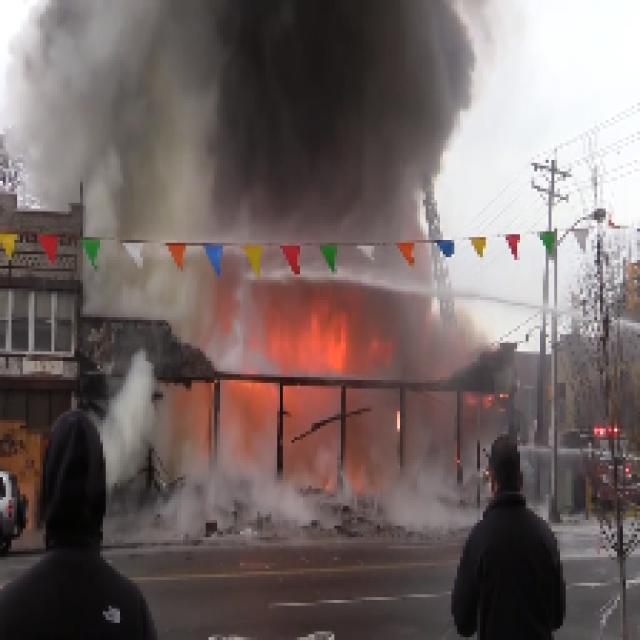smoke: (45, 0, 480, 244)
